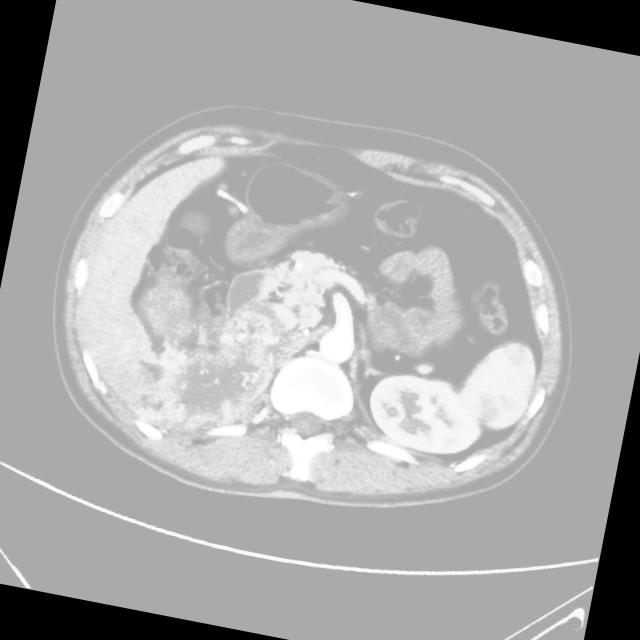TUMOR: (125, 150, 592, 451)
